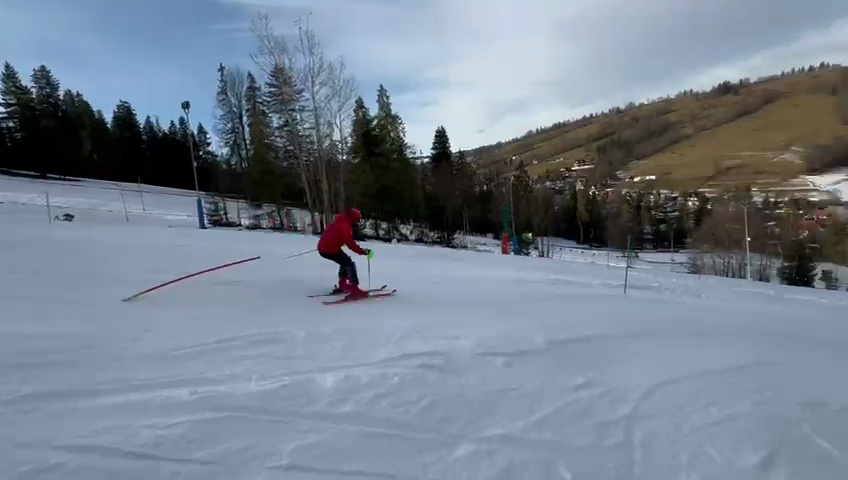gate: (104, 242, 263, 366), (116, 189, 132, 223)
